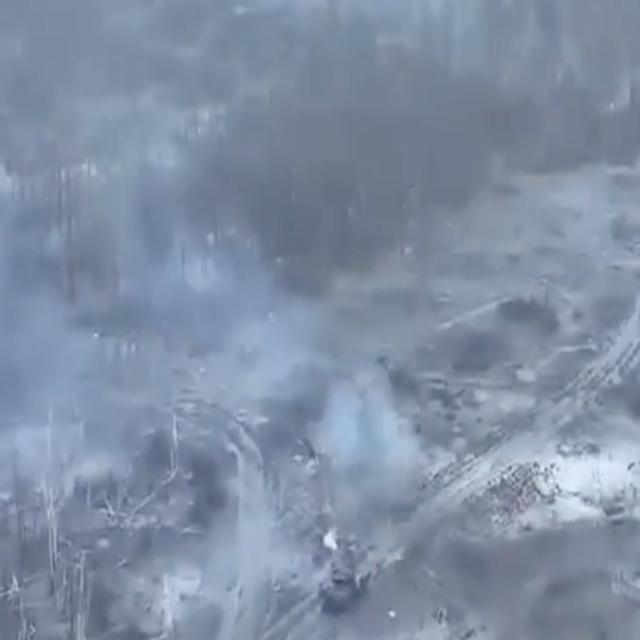vehicle: (315, 525, 378, 614)
